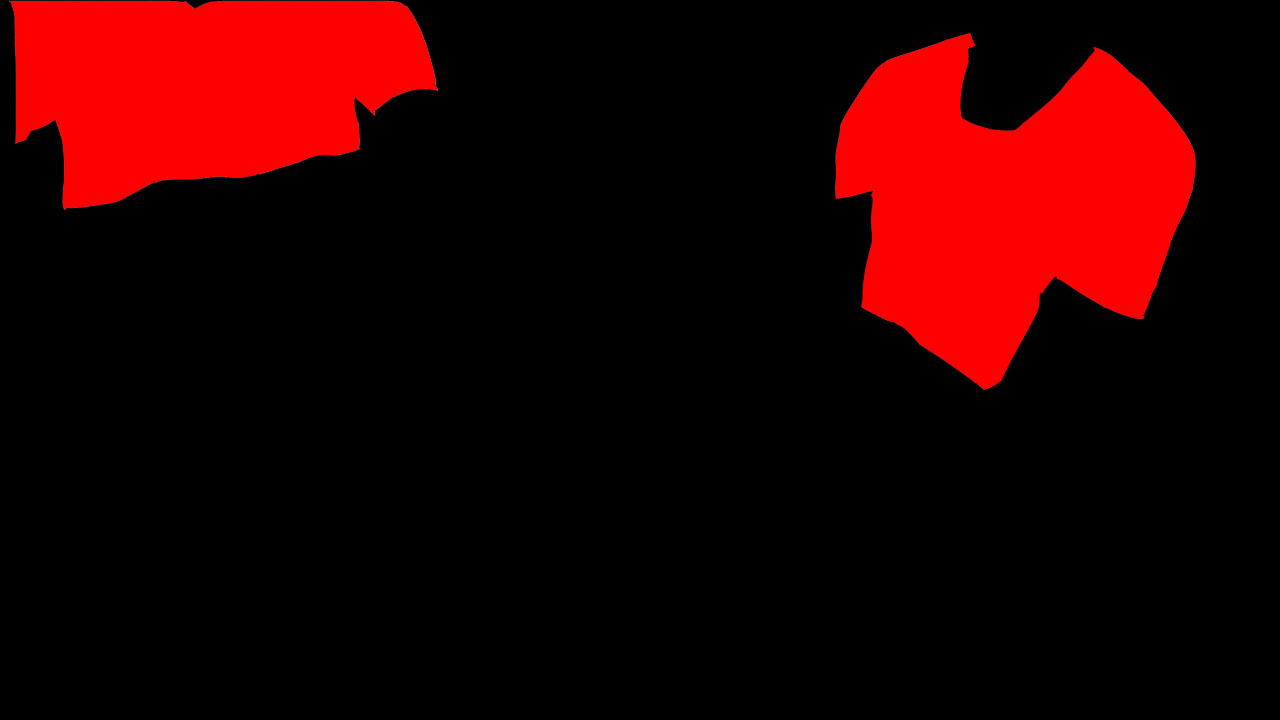uniforme_ifmt: (829, 30, 1193, 393), (3, 2, 444, 204)
